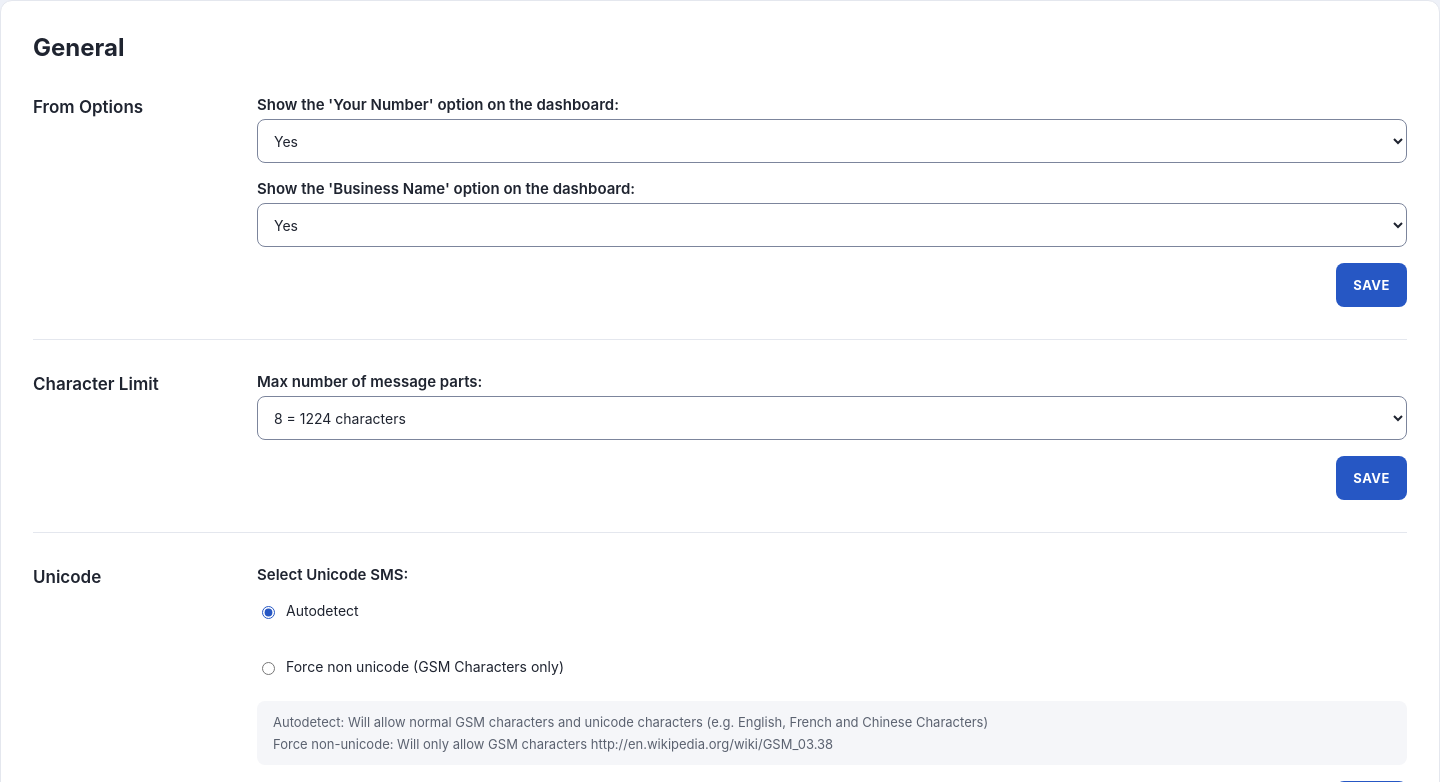
Scenario: MessagingGeneralTab › saves the from options from their own section
Select "No" in the dropdown labelled "Show the 'Your Number' option on the dashboard:" at (832, 141), box [257,119,1407,163]
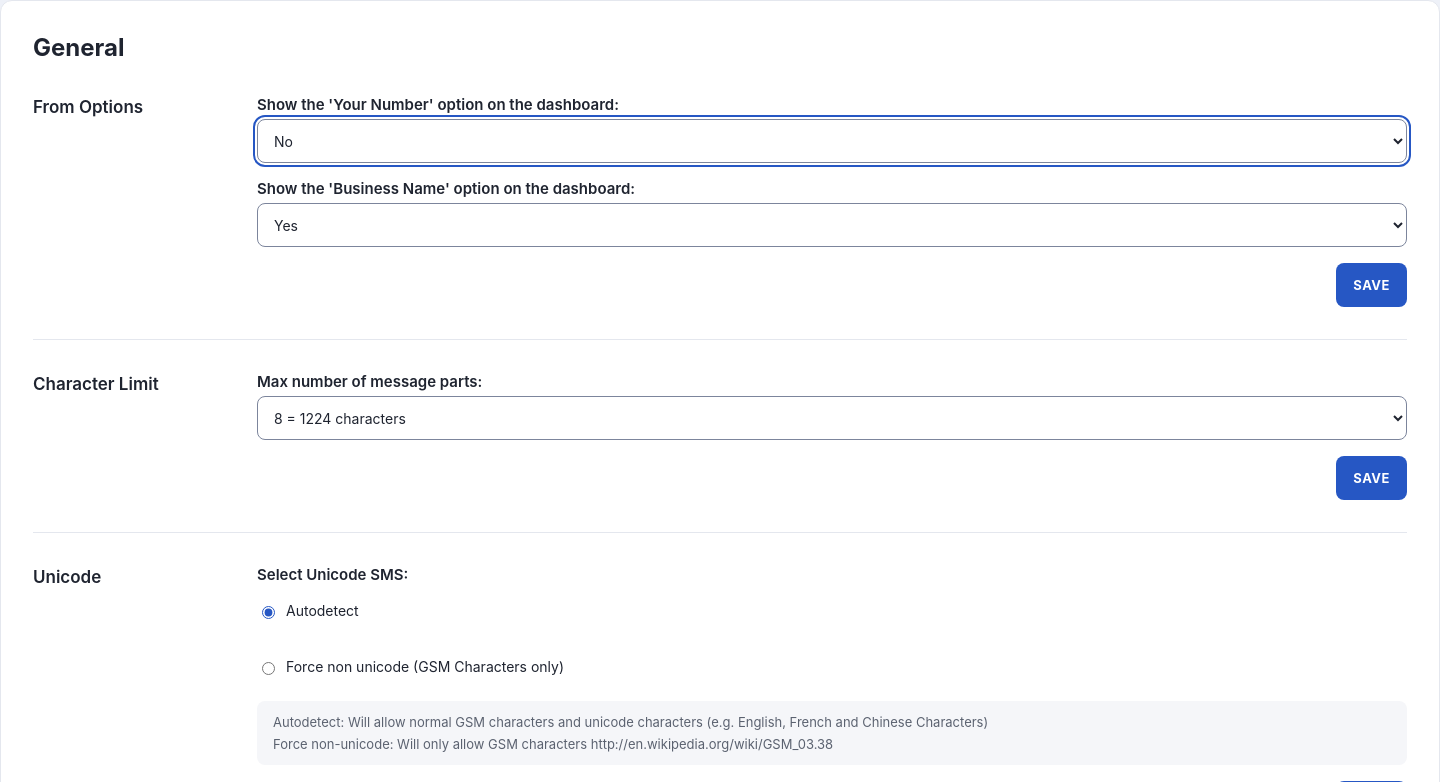
Click the 1st button "Save" at (1372, 285), box [1336,263,1407,307]
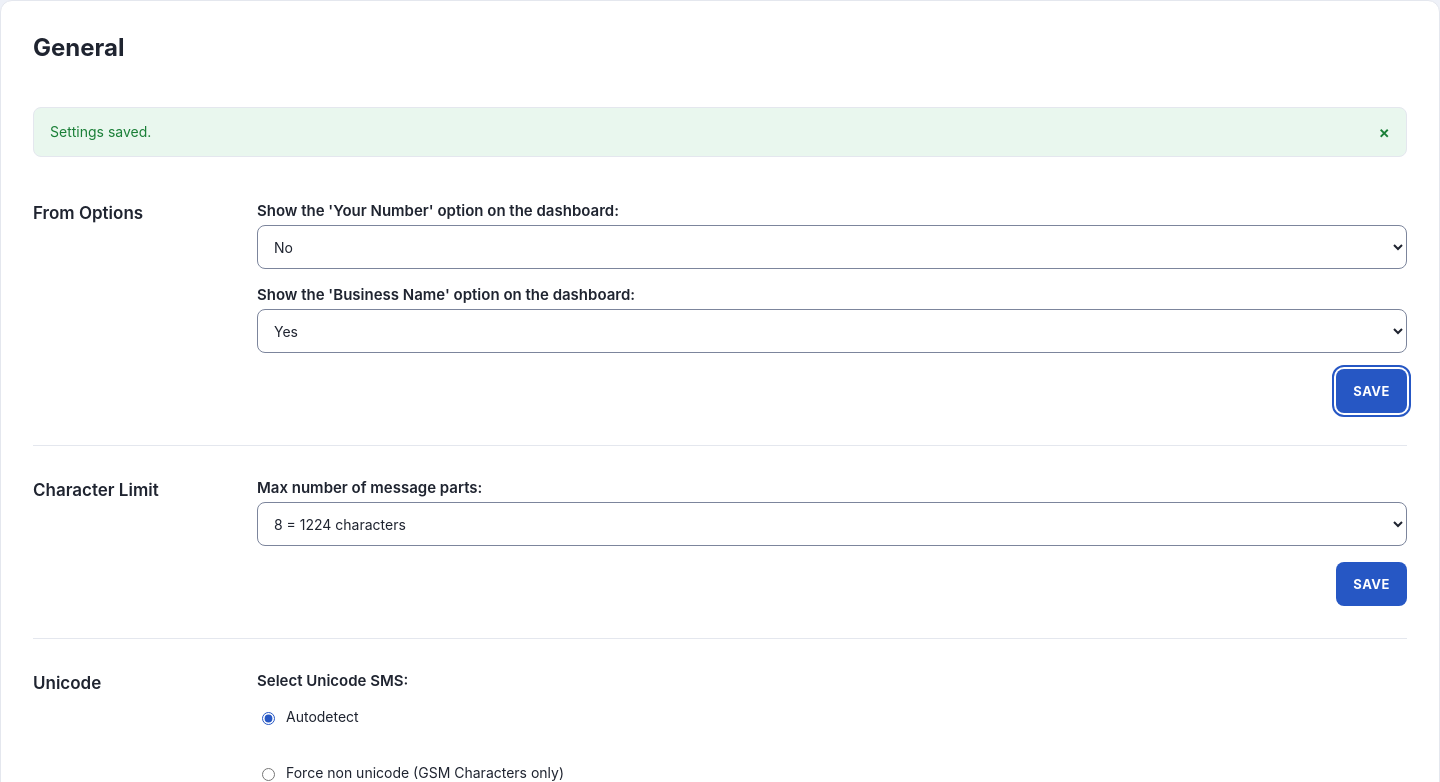
Result: the text "Settings saved." is shown at [50,123,151,140]
